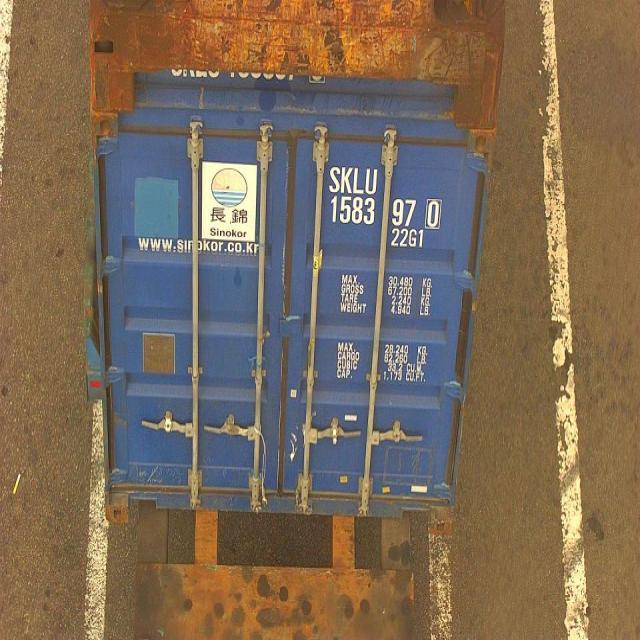ISO: (392, 227, 424, 246)
container_number: (332, 168, 444, 223)
